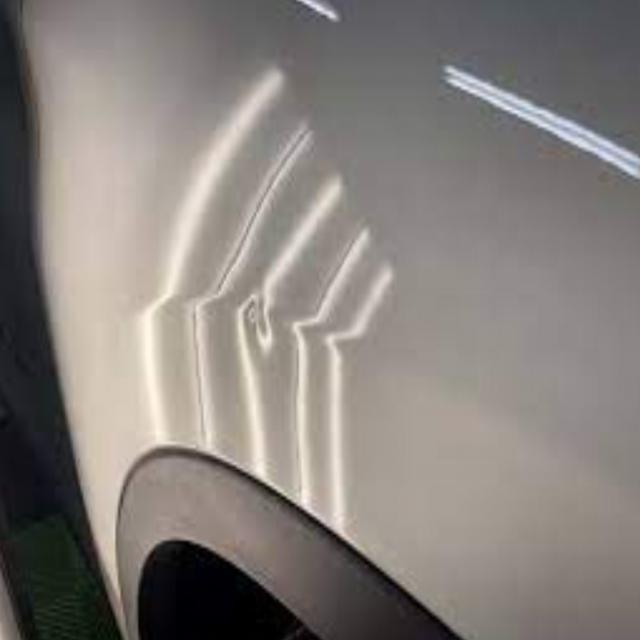dents: (225, 251, 294, 366)
